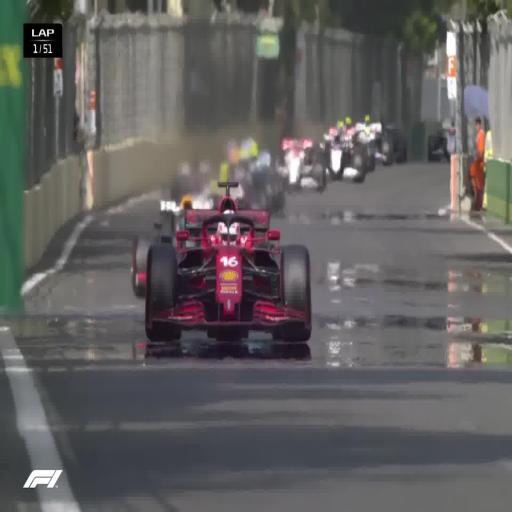f1_car: (145, 208, 311, 349), (131, 195, 192, 297), (274, 134, 324, 192), (230, 144, 281, 198), (196, 171, 248, 216), (320, 130, 362, 185), (355, 118, 390, 165), (218, 183, 237, 208)
